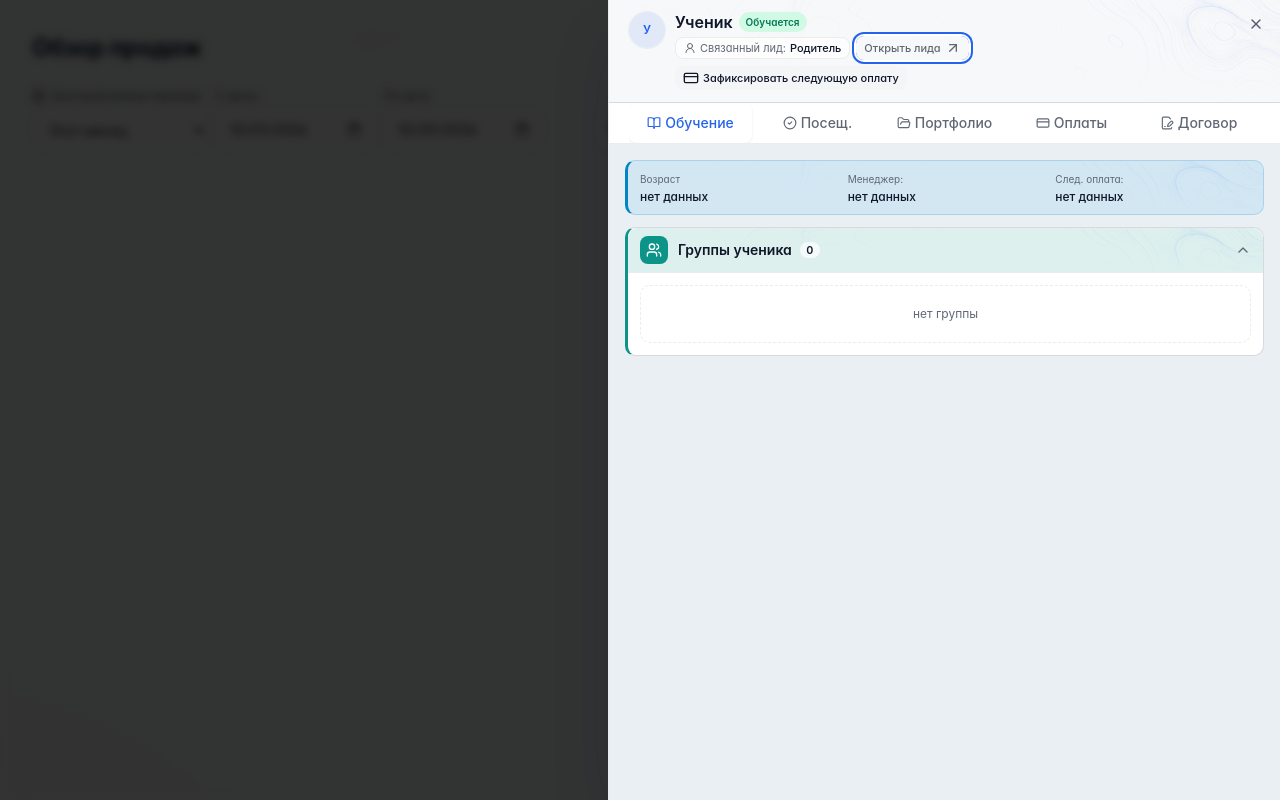
Test: opens a student from the shared search and notification destination on the sales overview
This screenshot has width=1280, height=800.
Expected: the dialog "Ученик" is shown, top-left (608, 0), bottom-right (1279, 799)
Step 1. Click the button named "Закрыть" → x=1256, y=24, box top-left (1248, 16), bottom-right (1264, 32)
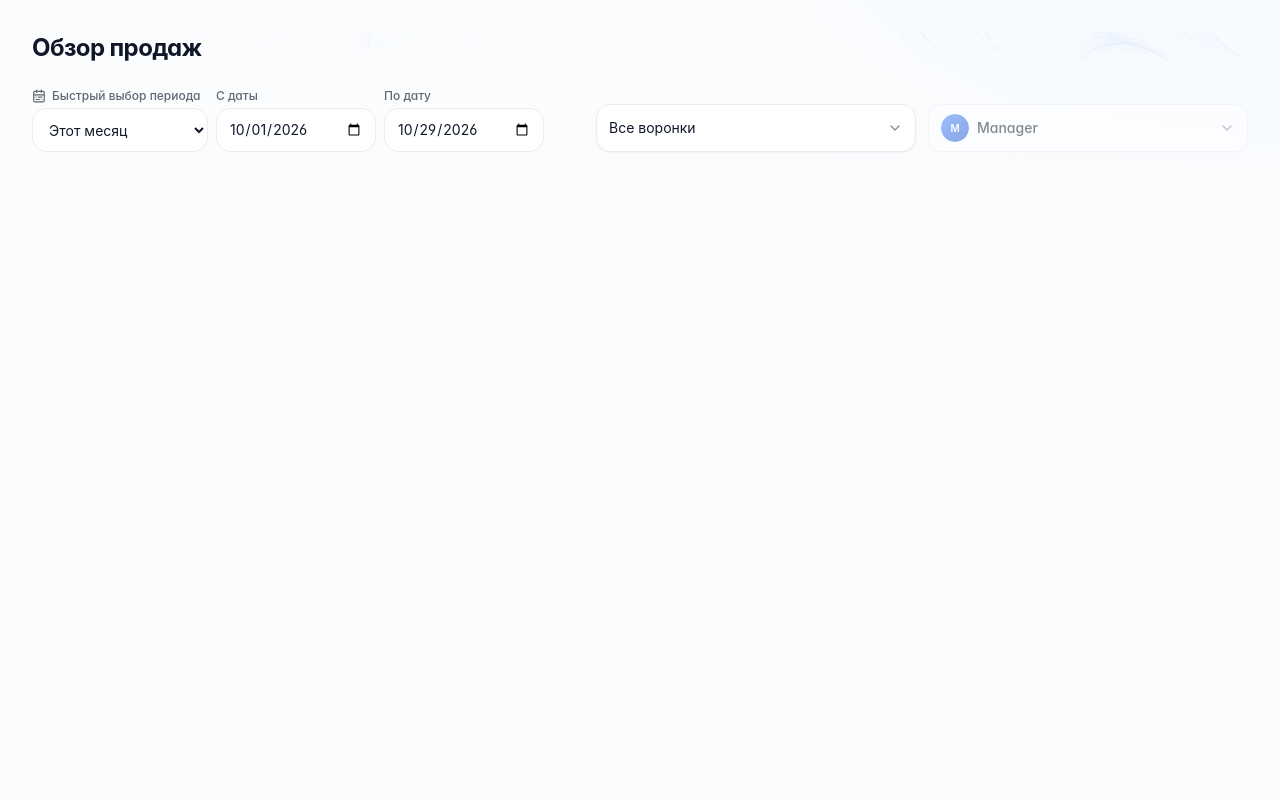
Expected: the heading "Обзор продаж" is shown, top-left (32, 32), bottom-right (202, 64)
Expected: the dialog is gone
